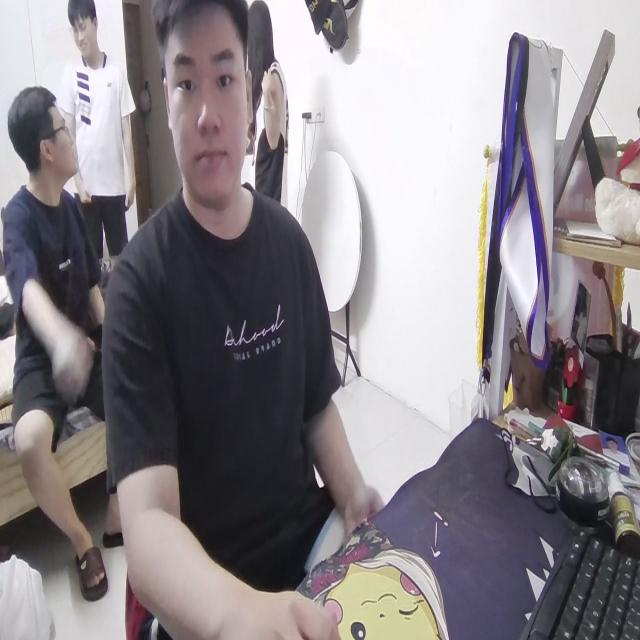extra_person: (0, 88, 110, 619), (56, 0, 134, 272), (246, 0, 296, 228)
student: (106, 0, 384, 640)
